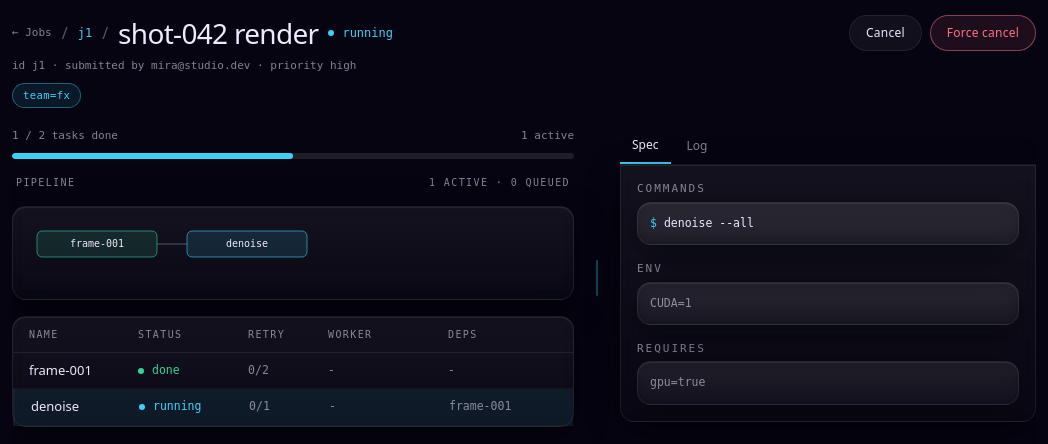
Test: selecting a task drives the spec pane and names the tabs
Expected: the heading "shot-042 render" is shown, [118,12,318,54]
Click the button "frame-001" at (84, 371), box [29,361,138,380]
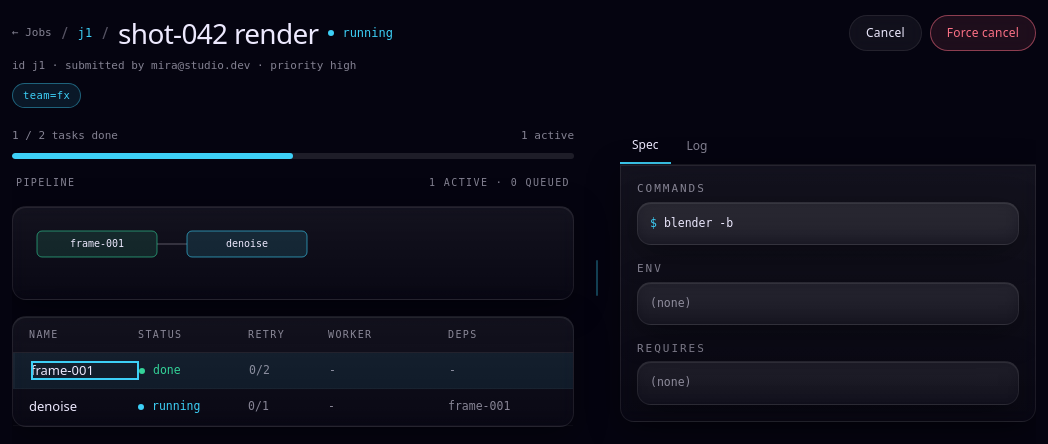
Result: the text "$ blender -b" is shown at [650,216,733,230]
